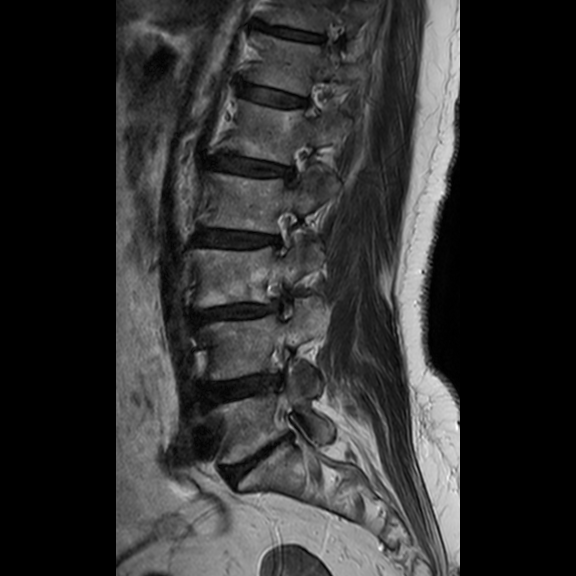RFS0: (259, 203, 304, 263), (273, 138, 317, 196)
RFS3: (254, 271, 301, 329)
